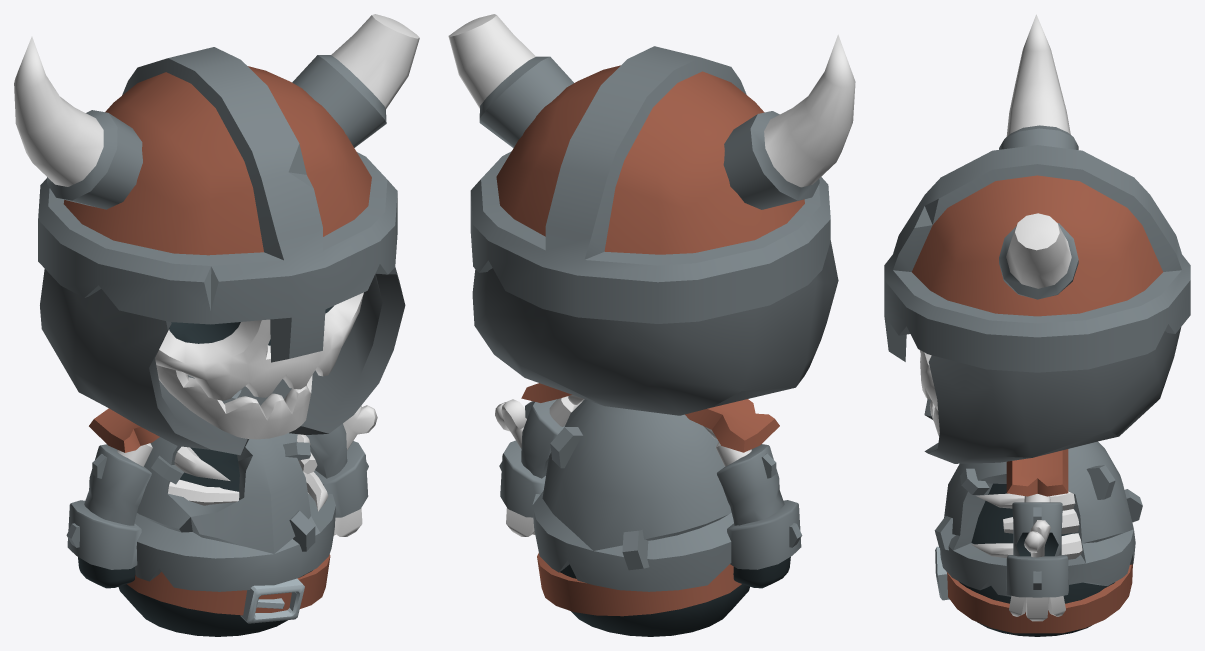
The model's file is character_skeleton_warrior.gltf.
3 views of the same model, side by side, from view 1: azimuth 30°, elevation 25°; view 2: azimuth 150°, elevation 25°; view 3: azimuth 270°, elevation 25° (orthographic). The views are drawn at different scales.
Parts seen in each view (by area): view 1: character_skeleton_warrior_helmet, character_skeleton_warrior_body, character_skeleton_warrior_head, character_skeleton_warrior_armRight, character_skeleton_warrior_jaw, character_skeleton_warrior_armLeft; view 2: character_skeleton_warrior_helmet, character_skeleton_warrior_body, character_skeleton_warrior_armRight, character_skeleton_warrior_armLeft; view 3: character_skeleton_warrior_helmet, character_skeleton_warrior_body, character_skeleton_warrior_armLeft, character_skeleton_warrior_head.
Part boxes in pixels (x1,y1,x2,y2): character_skeleton_warrior_helmet: (14,14,419,455); character_skeleton_warrior_body: (118,389,335,636); character_skeleton_warrior_head: (155,292,363,400); character_skeleton_warrior_armRight: (66,408,159,588); character_skeleton_warrior_jaw: (156,365,312,439); character_skeleton_warrior_armLeft: (306,405,377,536); character_skeleton_warrior_helmet: (448,14,855,415); character_skeleton_warrior_body: (532,399,749,636); character_skeleton_warrior_armRight: (685,399,802,588); character_skeleton_warrior_armLeft: (495,383,584,536); character_skeleton_warrior_helmet: (884,14,1190,463); character_skeleton_warrior_body: (934,441,1142,636); character_skeleton_warrior_armLeft: (1006,449,1068,621); character_skeleton_warrior_head: (920,350,938,410).
Bounding box in the file's own units: 1.38 × 2.02 × 1.08.
